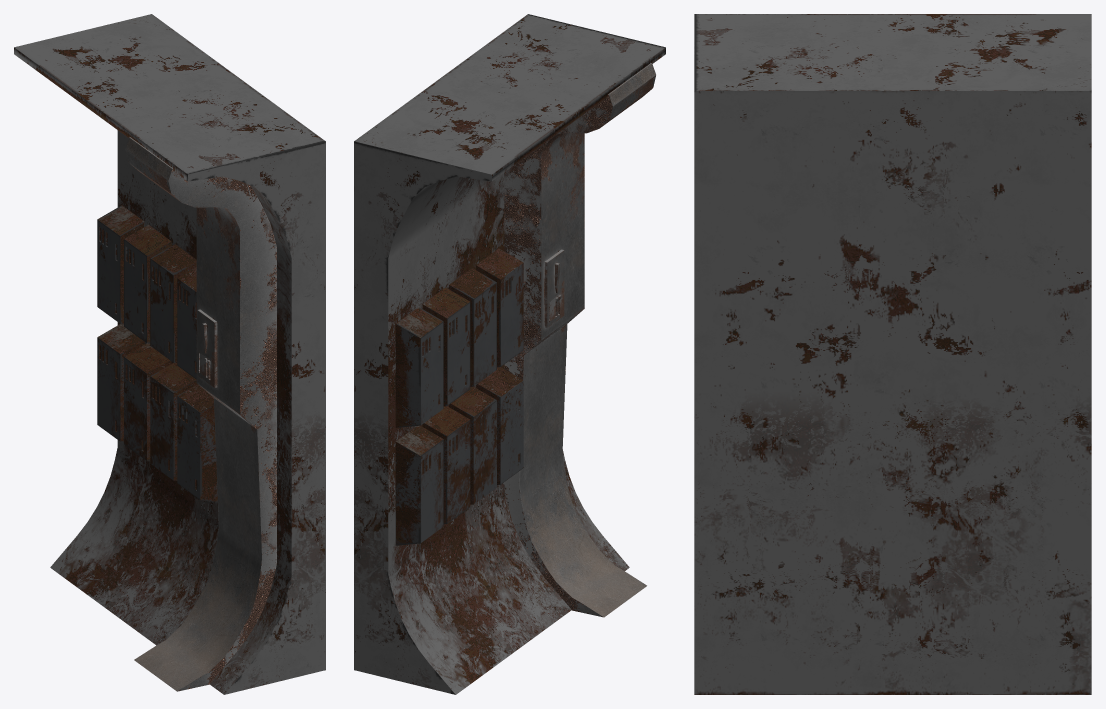
Rendered from wall_R.fbx.
The picture shows the model from 3 angles, left to right: view 1: azimuth 30°, elevation 25°; view 2: azimuth 150°, elevation 25°; view 3: azimuth 270°, elevation 25°; orthographic projection. The views are drawn at different scales.
Parts seen in each view (by area): view 1: body, long, box; view 2: body, long, box; view 3: body.
Boxes of the visible parts, <box> form: body: <box>14,14,325,694</box>; long: <box>125,137,276,691</box>; box: <box>97,205,217,501</box>; body: <box>354,14,665,694</box>; long: <box>504,63,655,617</box>; box: <box>395,248,523,545</box>; body: <box>694,14,1091,694</box>.
Size of the model in its own units: 0.1338 by 0.4741 by 0.2824.
